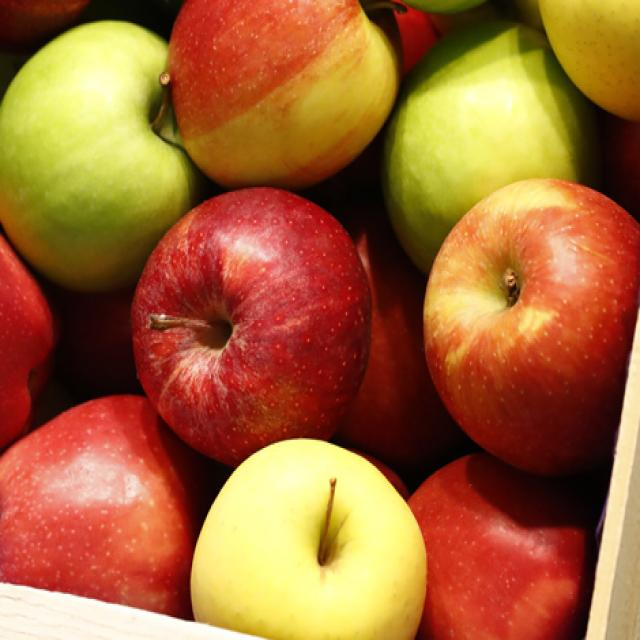apple: (123, 186, 374, 461), (421, 179, 640, 484), (3, 20, 192, 294), (382, 26, 594, 268), (186, 436, 427, 640), (165, 2, 404, 188), (2, 392, 186, 622), (412, 449, 592, 640)
